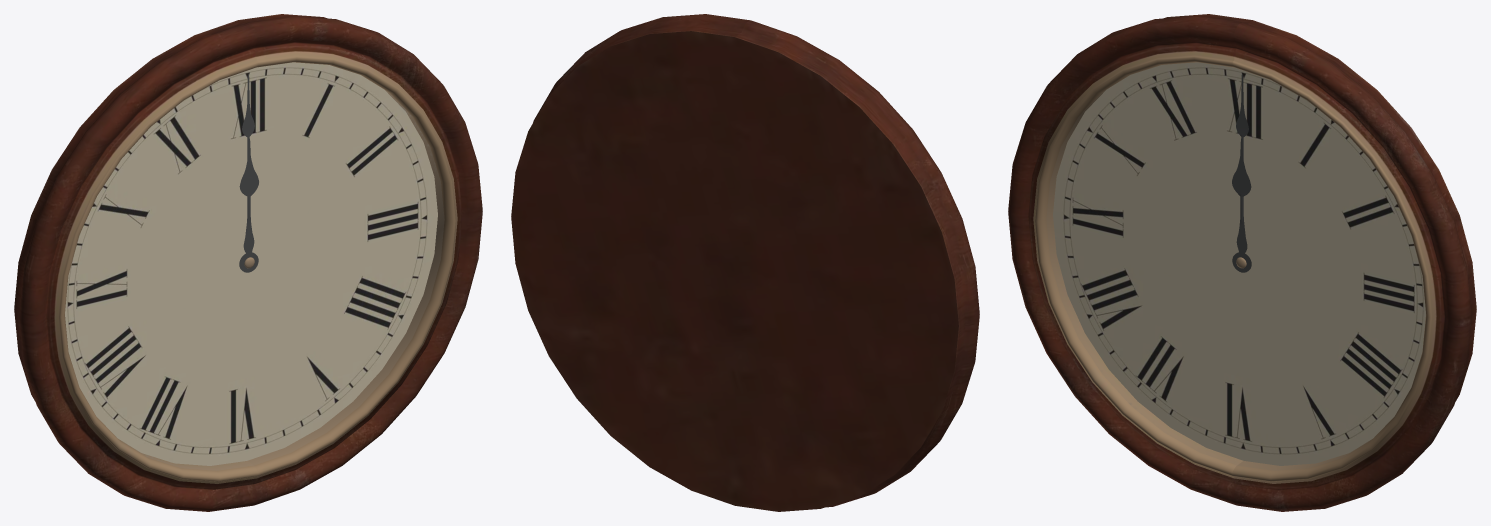
Rendered from wallclock.glb.
3 views of the same model, side by side, from view 1: azimuth 30°, elevation 25°; view 2: azimuth 150°, elevation 25°; view 3: azimuth 330°, elevation 25° (orthographic).
Parts seen in each view (by area): view 1: Object_2; view 2: Object_2; view 3: Object_2.
Boxes of the visible parts, x1,y1,x2,y2 form: Object_2: (14,14,482,511); Object_2: (511,14,979,511); Object_2: (1008,14,1476,511).
Bounding box in the file's own units: 0.4 × 0.4 × 0.0308.
1 material, 1 textured.
